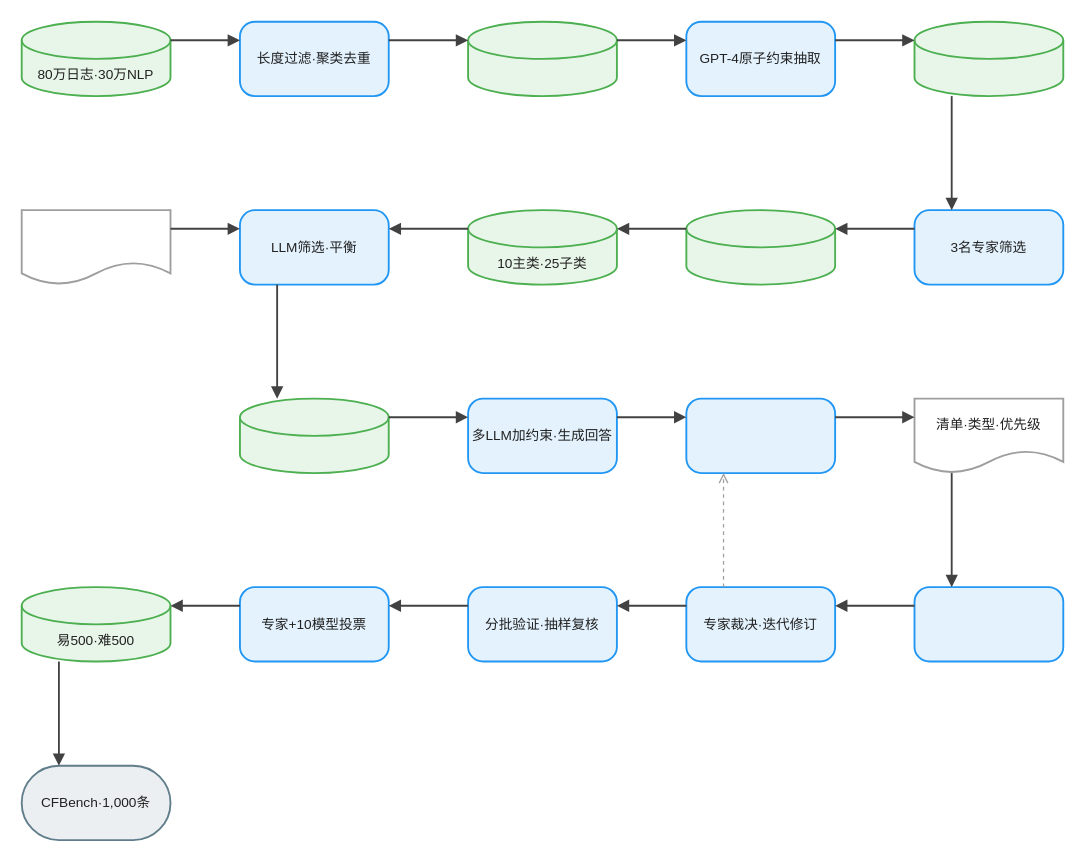
The diagram is 1086 pixels wide and 863 high, and some of its shapes have lost their labels. Here are the shapes that lost their labels. From the top down, the centre of each, then its label:
the point at 542,58: 约3万优质指令
the point at 988,58: 约5千唯一约束
the point at 95,247: 场景与NLP初始指令
the point at 760,247: 1千重要原子约束
the point at 313,435: 2千候选指令
the point at 760,435: 9名标注员审校
the point at 988,624: 3人交叉复核·94%
